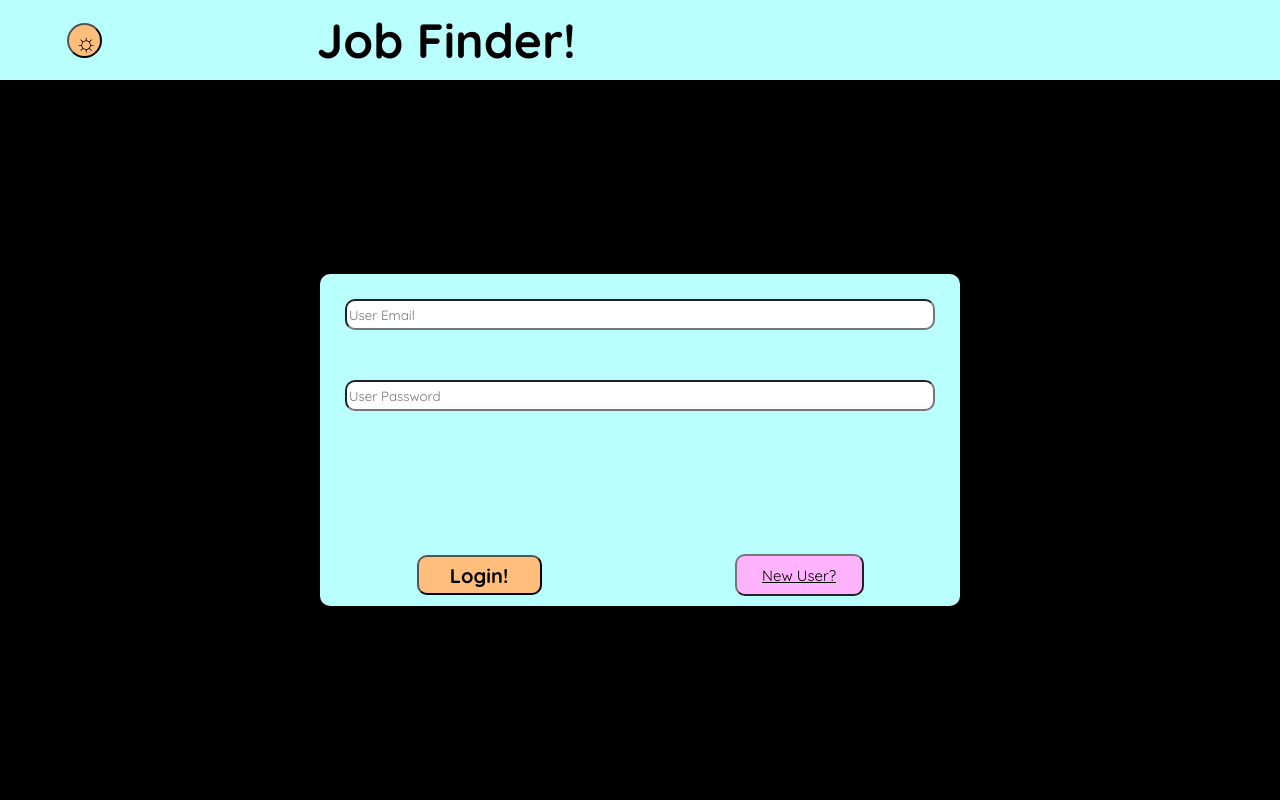
Test: Sad_path › A user should receive an error when they enter only a password.
The width and height of the screenshot is (1280, 800).
Type "badpass" into the password field with test id "password" at (640,396), box [345,380,935,411]
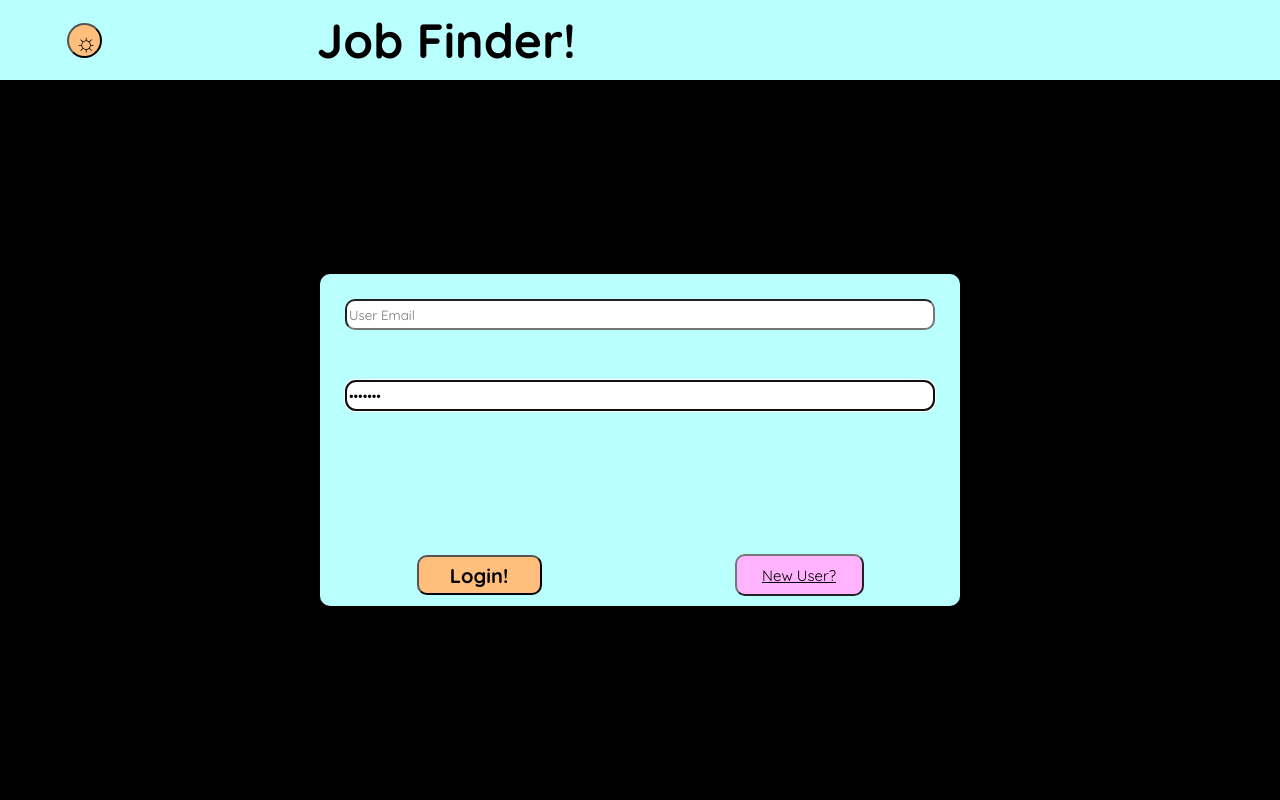
Click the button with test id "loginButton" at (480,575), box [417,555,542,595]
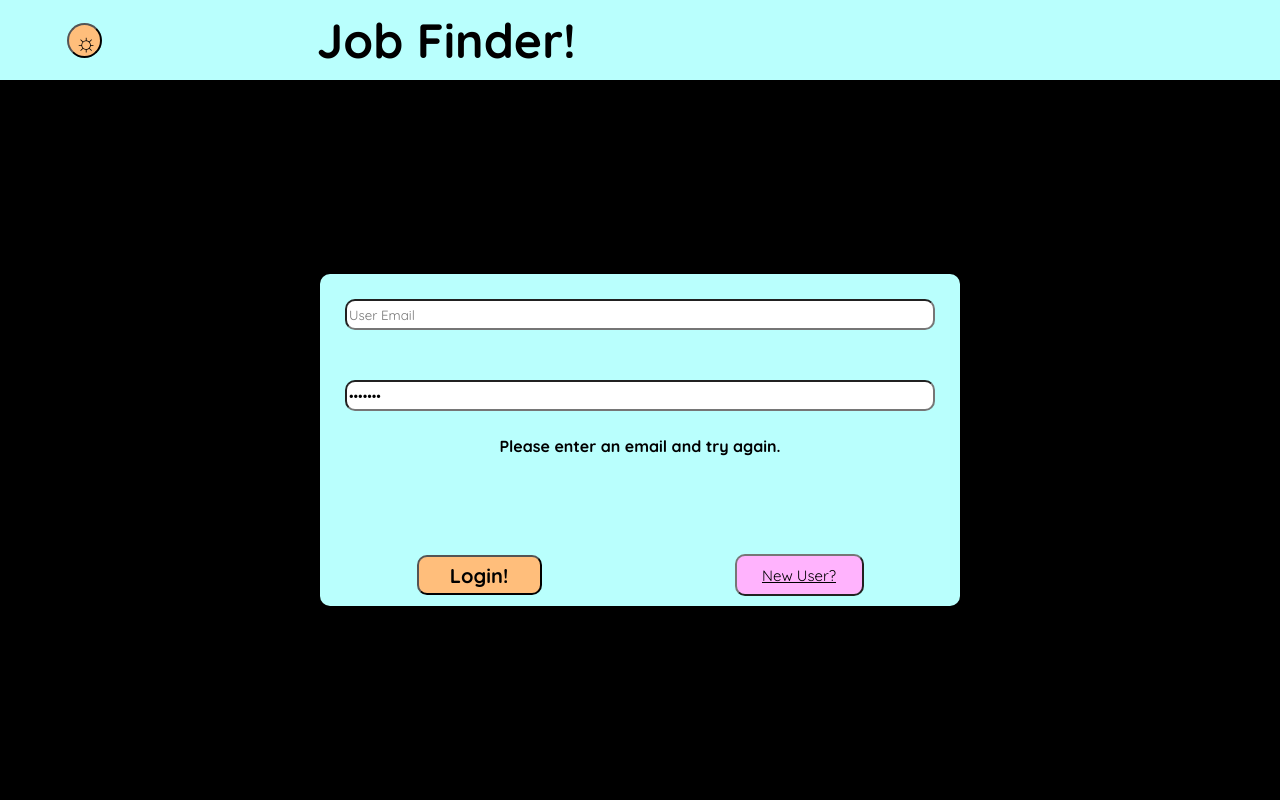
Check: the text with test id "messages" reads "Please enter an email and try again.", box [499,436,780,456]
